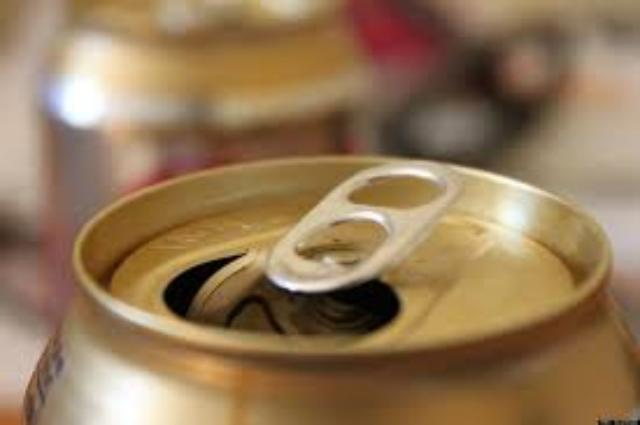metal: (37, 154, 631, 419)
